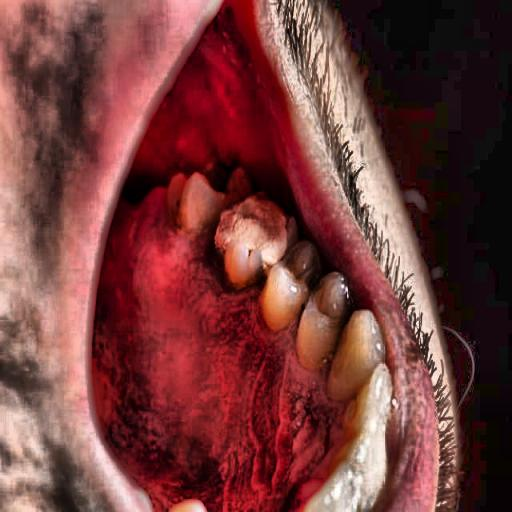Caries: (201, 177, 339, 318)
